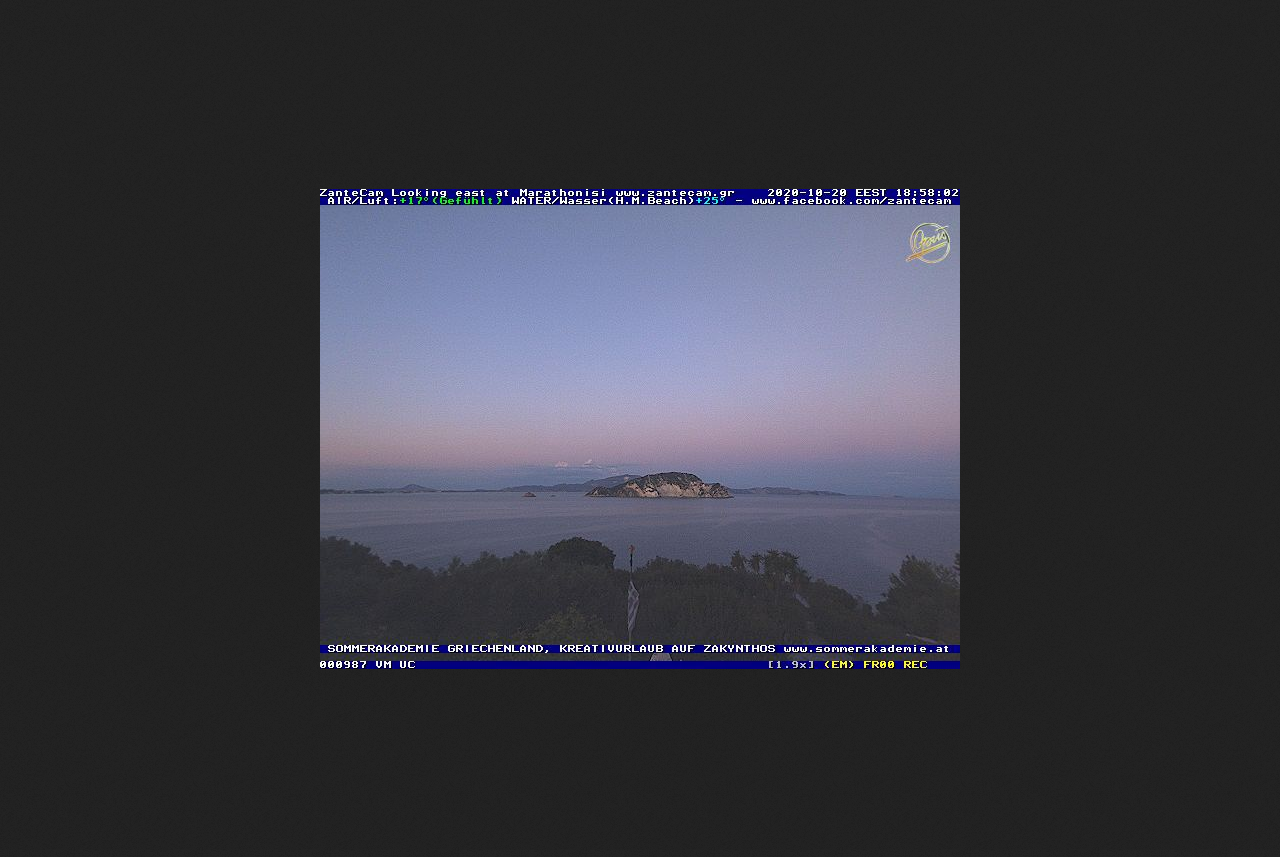no: (623, 577, 642, 641)
